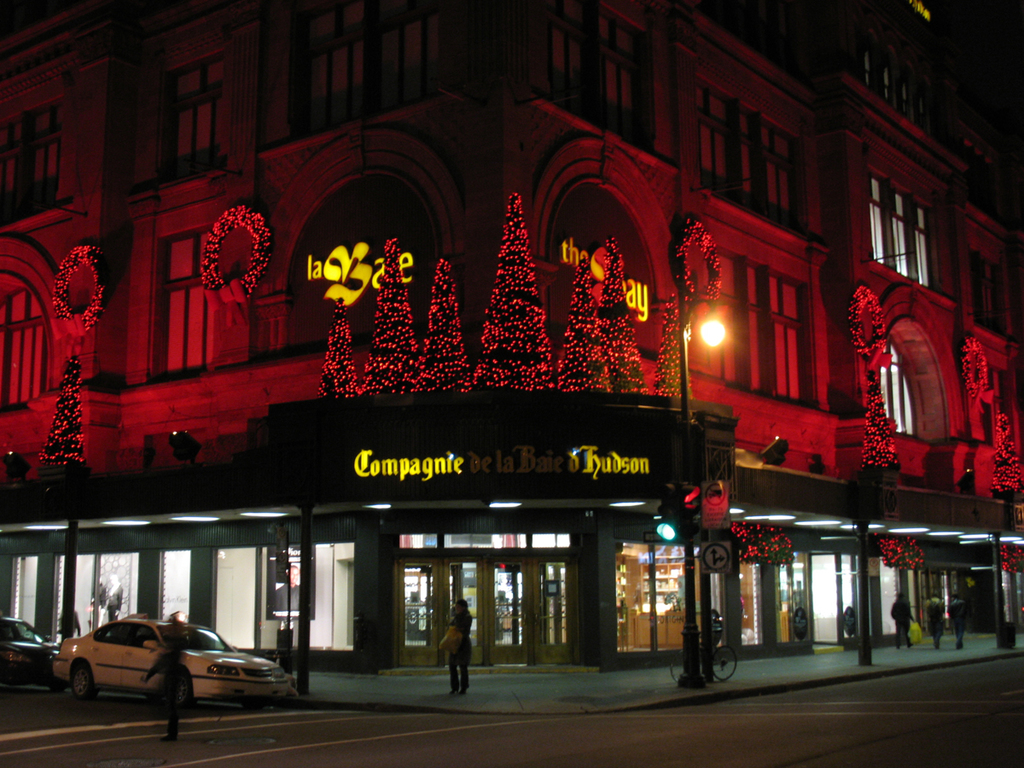Car: (51, 613, 293, 712), (0, 611, 54, 681)
